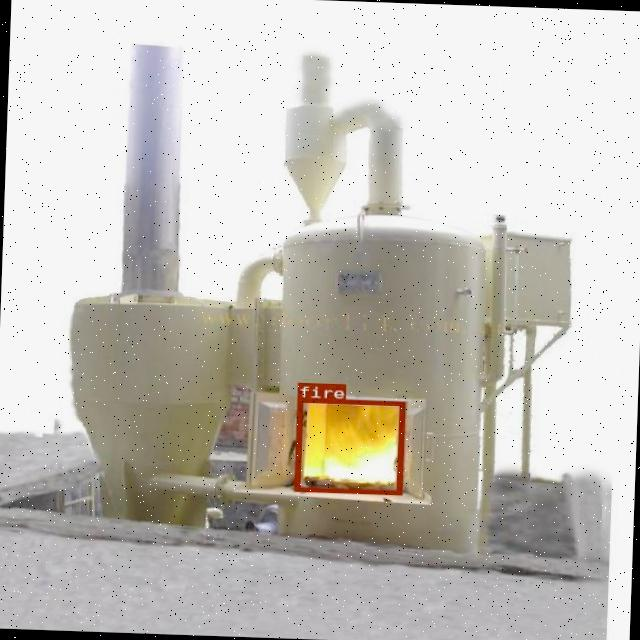fire: (293, 396, 404, 494)
